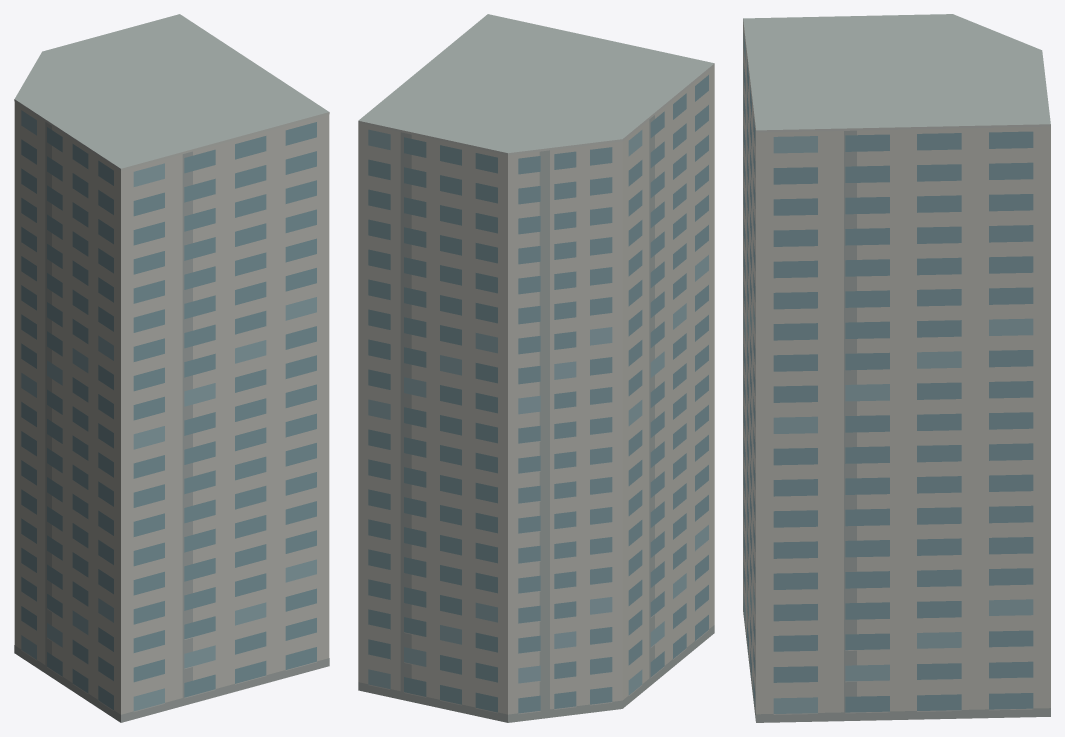
File: residential-6d0e82af-5636-4b3f-8501-eb8c9c73ee99.glb
The picture shows the model from 3 angles, left to right: view 1: azimuth 30°, elevation 25°; view 2: azimuth 150°, elevation 25°; view 3: azimuth 270°, elevation 25°; orthographic projection. The views are drawn at different scales.
Parts seen in each view (by area): view 1: residential-6d0e82af-5636-4b3f-8501-eb8c9c73ee99.tmp; view 2: residential-6d0e82af-5636-4b3f-8501-eb8c9c73ee99.tmp; view 3: residential-6d0e82af-5636-4b3f-8501-eb8c9c73ee99.tmp.
Boxes of the visible parts, x1,y1,x2,y2 form: residential-6d0e82af-5636-4b3f-8501-eb8c9c73ee99.tmp: (14,14,329,722); residential-6d0e82af-5636-4b3f-8501-eb8c9c73ee99.tmp: (358,14,714,722); residential-6d0e82af-5636-4b3f-8501-eb8c9c73ee99.tmp: (743,14,1050,722).
Bounding box in the file's own units: 25.28 × 60 × 28.25.
